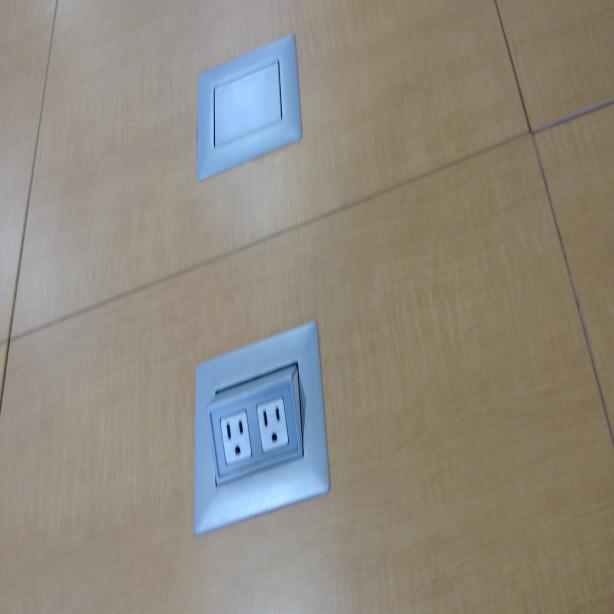typeb: (254, 401, 287, 453), (220, 413, 250, 462)
